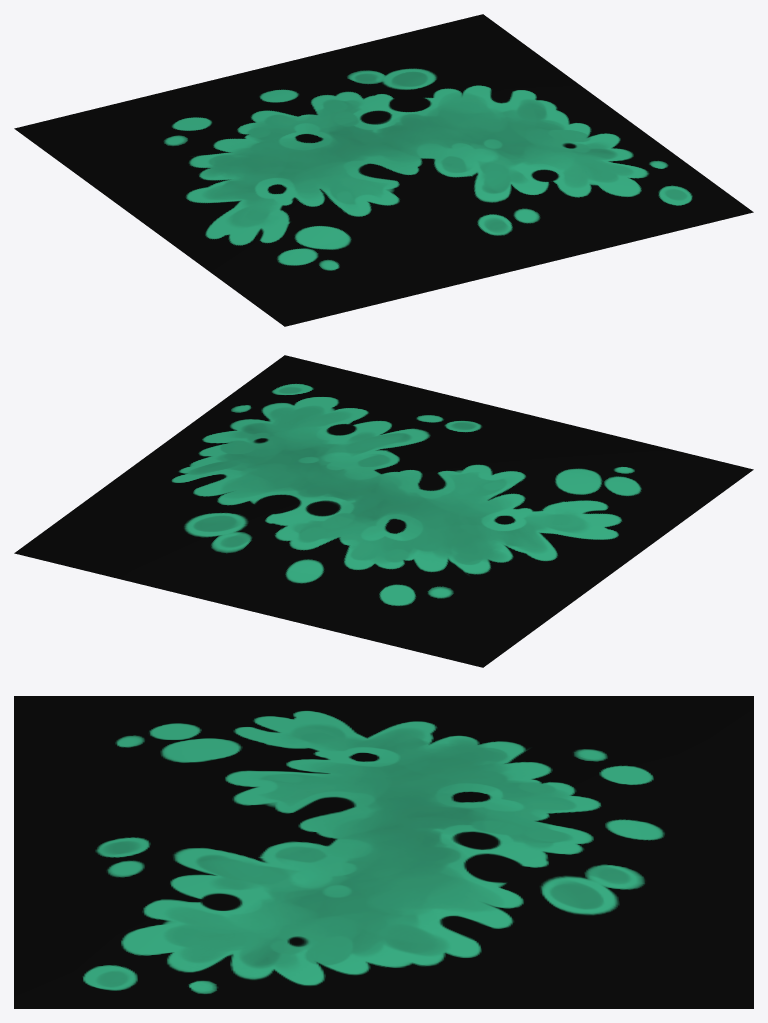
File: m_mousse2.FBX
3 views of the same model, one above another, from view 1: azimuth 30°, elevation 25°; view 2: azimuth 150°, elevation 25°; view 3: azimuth 270°, elevation 25° (orthographic). The views are drawn at different scales.
Parts seen in each view (by area): view 1: mousse 2; view 2: mousse 2; view 3: mousse 2.
Part boxes in pixels (x1,y1,x2,y2): mousse 2: (14,14,753,326); mousse 2: (14,355,753,667); mousse 2: (14,696,753,1008).
Bounding box in the file's own units: 19.04 × 0.895 × 19.04.
